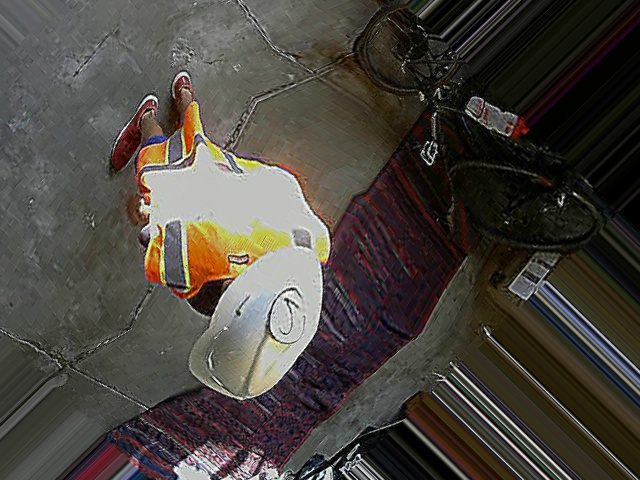two: (261, 276, 316, 349)
